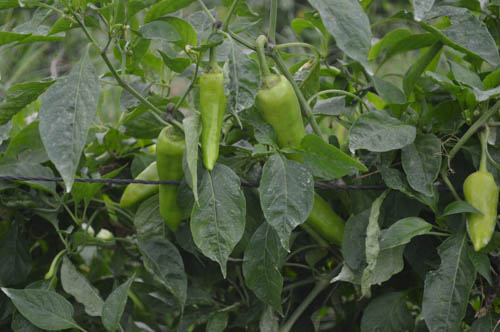ChiliPepper: (258, 75, 305, 167), (153, 129, 185, 228), (296, 190, 348, 247), (463, 170, 497, 257), (195, 69, 223, 170), (122, 160, 162, 210)
